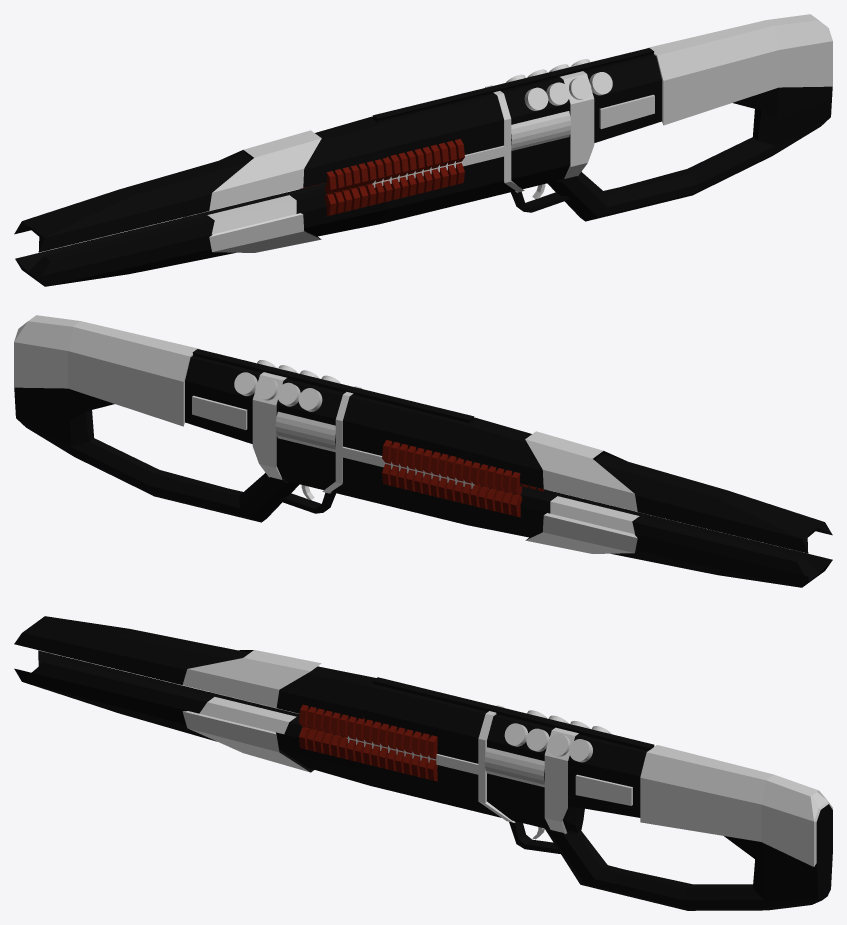
File: gun.obj
The picture shows the model from 3 angles, top to bottom: view 1: azimuth 30°, elevation 25°; view 2: azimuth 150°, elevation 25°; view 3: azimuth 330°, elevation 25°; orthographic projection.
Parts seen in each view (by area): view 1: Куб; view 2: Куб; view 3: Куб.
Part boxes in pixels (left/top/right/bottom): Куб: left=14, top=14, right=832, bottom=286; Куб: left=14, top=315, right=832, bottom=587; Куб: left=14, top=616, right=832, bottom=910.
Bounding box in the file's own units: 3.65 × 0.669 × 0.2525.
